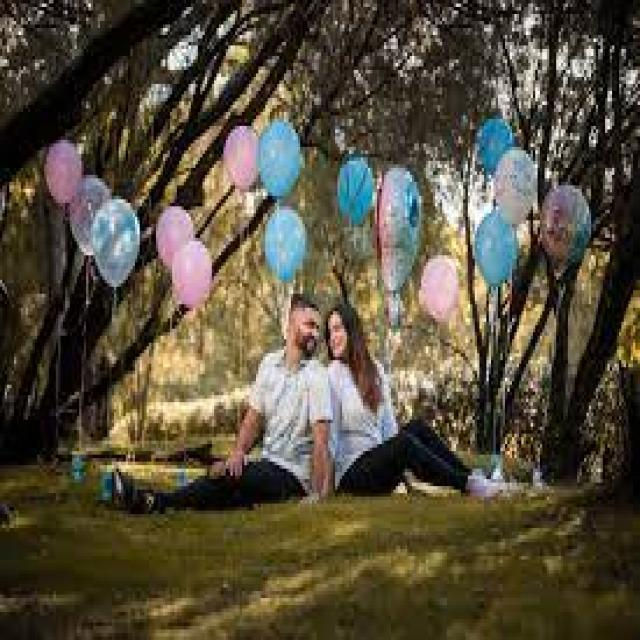balloon: (91, 201, 143, 290), (262, 204, 308, 283), (259, 120, 302, 196), (420, 256, 460, 334), (497, 150, 536, 230), (480, 214, 515, 302), (173, 242, 216, 304), (227, 120, 260, 200), (338, 156, 374, 222), (156, 207, 194, 269), (44, 140, 80, 204), (478, 117, 512, 167)
